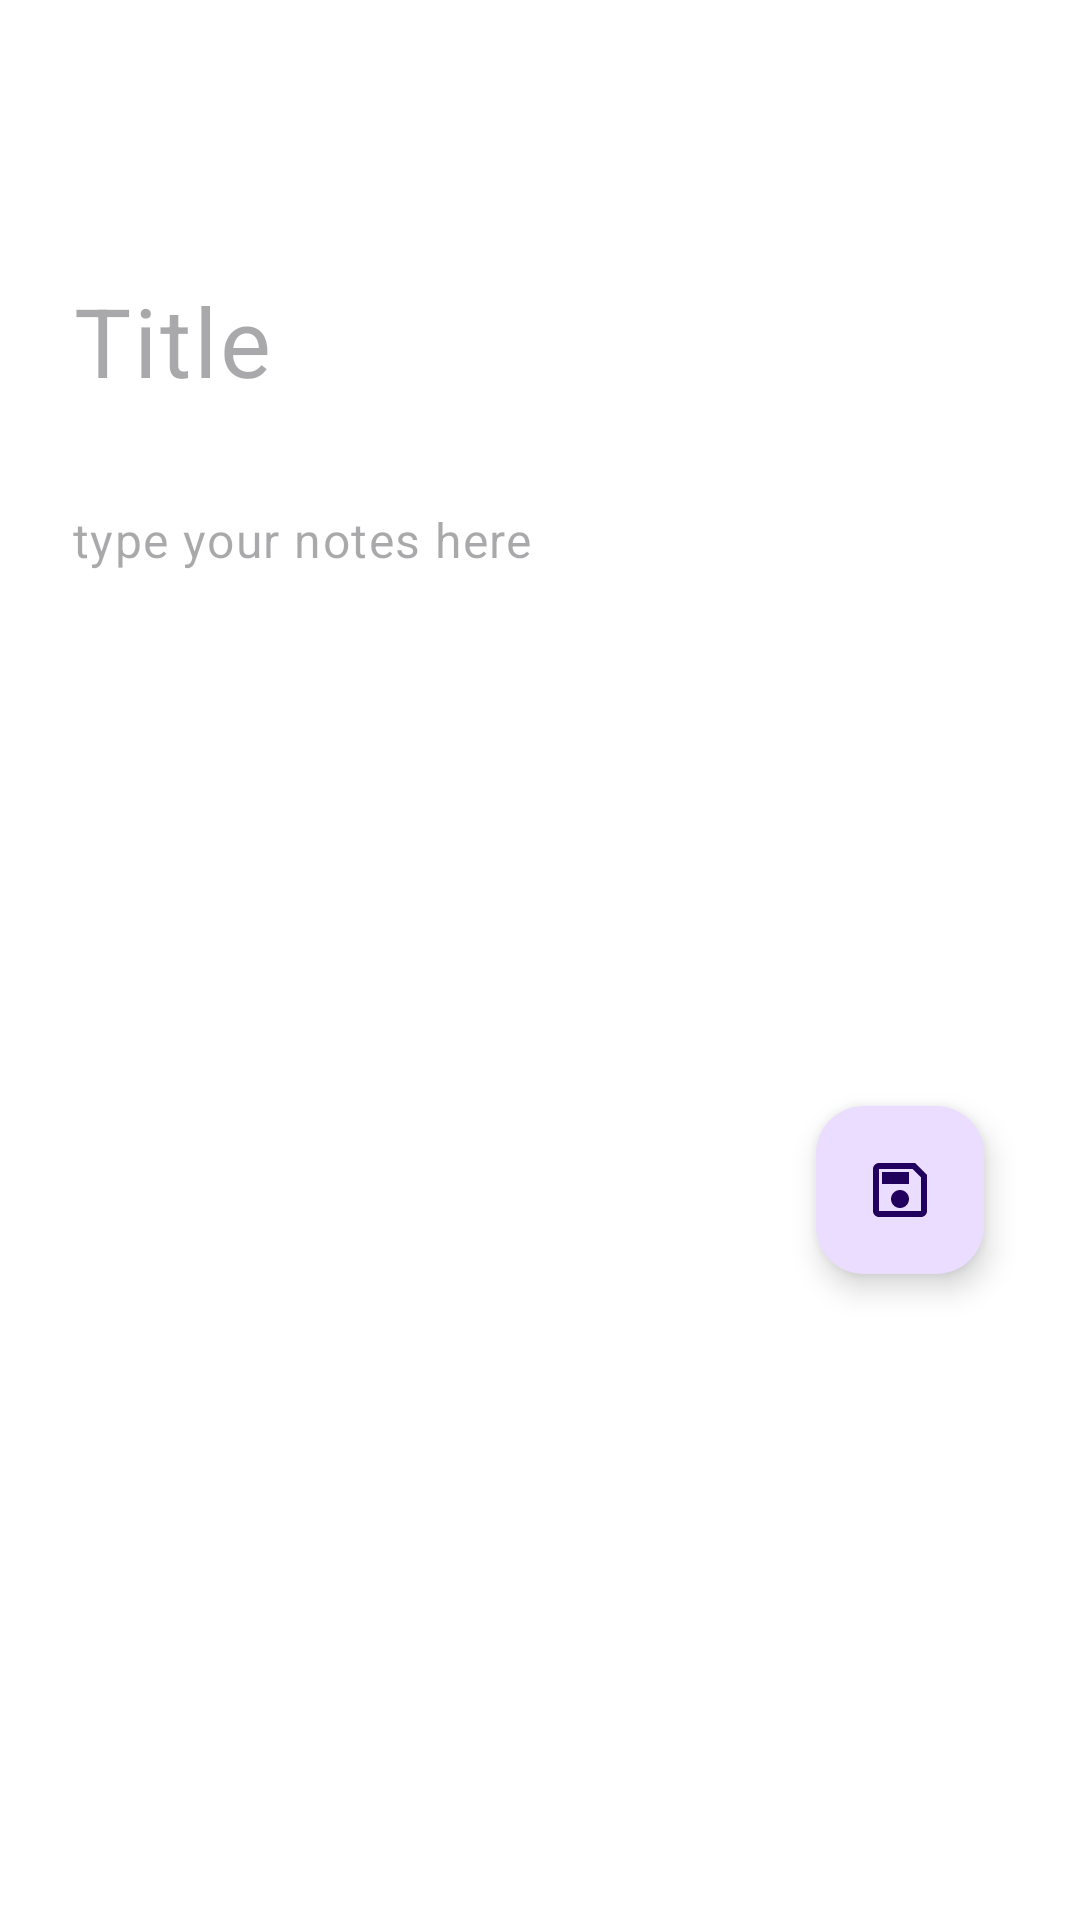

Named icons in this screenshot (1080w x 1920h) and their bounding boxes, (x1=x1, y1=y1, x2=x2, y2=y2):
save: (x1=816, y1=1106, x2=984, y2=1274)
